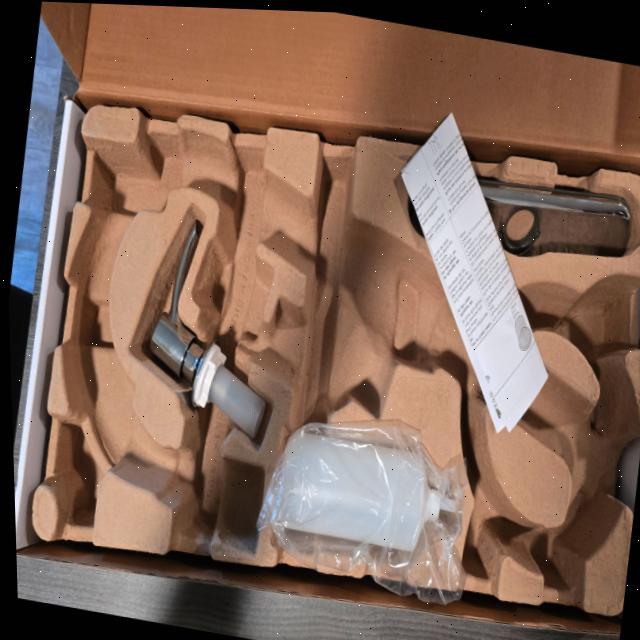1m: (66, 139, 635, 552)
2: (148, 218, 265, 439)
3: (275, 427, 460, 556)
4o: (411, 167, 630, 255)
5m: (565, 290, 617, 353)
6m: (529, 486, 606, 597)
7m: (465, 443, 517, 577)
8: (401, 110, 549, 432)
